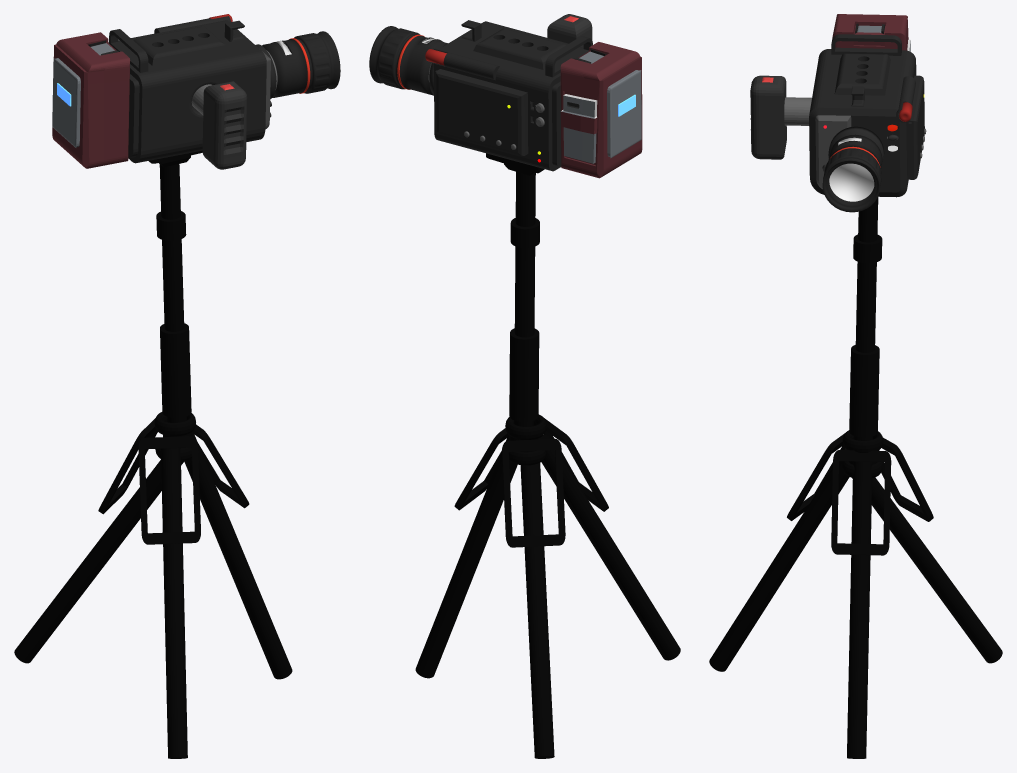
Rendered from environment_decor.glb.
The picture shows the model from 3 angles, left to right: view 1: azimuth 30°, elevation 25°; view 2: azimuth 150°, elevation 25°; view 3: azimuth 270°, elevation 25°; orthographic projection. The views are drawn at different scales.
Visible parts, largest first — view 1: Cube.007, Cube.006, Cylinder.011, Cylinder.012, Cylinder.010, Cube.004, Cylinder.039_Material.015_0, Cylinder.017, Cylinder.009, Cube.003, Cube.008, Cube.009 (+2 smaller); view 2: Cube.007, Cube.006, Cylinder.010, Cylinder.011, Cylinder.012, Cylinder.039_Material.015_0, Cylinder.017, Cube.008, Cylinder.009, Cube.003, Cube.009, Cube.004 (+3 smaller); view 3: Cube.007, Cylinder.012, Cylinder.011, Cylinder.010, Cube.004, Cylinder.017, Cylinder.009, Cylinder.039_Material.015_0, Cube.009, Cube.006, lens, Cube.008 (+5 smaller).
Boxes of the visible parts, <box> form: Cube.007: <box>108,20,270,163</box>; Cube.006: <box>52,32,130,168</box>; Cylinder.011: <box>161,448,187,758</box>; Cylinder.012: <box>184,431,292,679</box>; Cylinder.010: <box>14,460,184,663</box>; Cube.004: <box>202,81,247,169</box>; Cylinder.039_Material.015_0: <box>262,31,340,97</box>; Cylinder.017: <box>159,164,186,422</box>; Cylinder.009: <box>160,323,191,417</box>; Cube.003: <box>138,436,200,544</box>; Cube.008: <box>98,418,157,514</box>; Cube.009: <box>192,424,249,508</box>; Cube.007: <box>434,21,592,171</box>; Cube.006: <box>560,42,642,178</box>; Cylinder.010: <box>520,463,554,758</box>; Cylinder.011: <box>538,435,680,660</box>; Cylinder.012: <box>415,435,517,678</box>; Cylinder.039_Material.015_0: <box>369,26,447,95</box>; Cylinder.017: <box>514,172,535,426</box>; Cube.008: <box>502,438,565,547</box>; Cylinder.009: <box>509,328,539,422</box>; Cube.003: <box>544,418,608,511</box>; Cube.009: <box>454,428,508,510</box>; Cube.004: <box>547,14,592,47</box>; Cube.007: <box>809,34,924,197</box>; Cylinder.012: <box>847,461,872,758</box>; Cylinder.011: <box>709,448,849,671</box>; Cylinder.010: <box>852,477,1002,663</box>; Cube.004: <box>750,75,786,159</box>; Cylinder.017: <box>853,197,878,440</box>; Cylinder.009: <box>849,345,879,437</box>; Cylinder.039_Material.015_0: <box>822,134,882,212</box>; Cube.009: <box>831,450,891,555</box>; Cube.006: <box>832,14,910,51</box>; lens: <box>829,163,874,201</box>; Cube.008: <box>881,437,933,521</box>.
Bounding box in the file's own units: 0.8521 × 2.13 × 0.8646.
